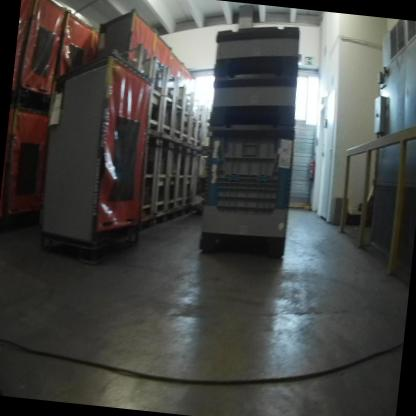stillage: (188, 145, 214, 211)
